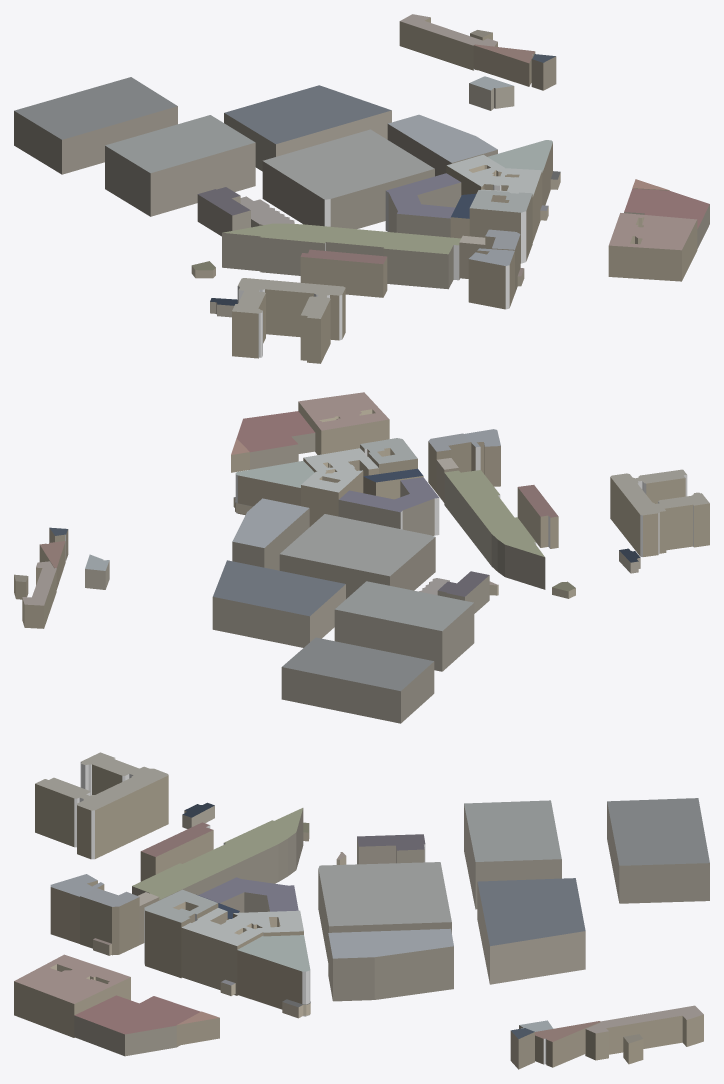
3 renders of one model, top to bottom at view 1: azimuth 30°, elevation 25°; view 2: azimuth 150°, elevation 25°; view 3: azimuth 270°, elevation 25°, orthographic. The views are drawn at different scales.
Visible parts, largest first — view 1: tuile; view 2: tuile; view 3: tuile.
Part boxes in pixels (x1=…): tuile: x1=14, y1=14, x2=709, y2=363; tuile: x1=14, y1=392, x2=709, y2=723; tuile: x1=14, y1=752, x2=709, y2=1069.
Bounding box in the file's own units: 270 × 29.46 × 289.
